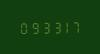nine: (28, 20, 38, 34)
one: (62, 19, 72, 33)
seven: (73, 19, 83, 33)
three: (51, 19, 61, 33), (40, 20, 50, 33)
zero: (17, 20, 27, 34)
